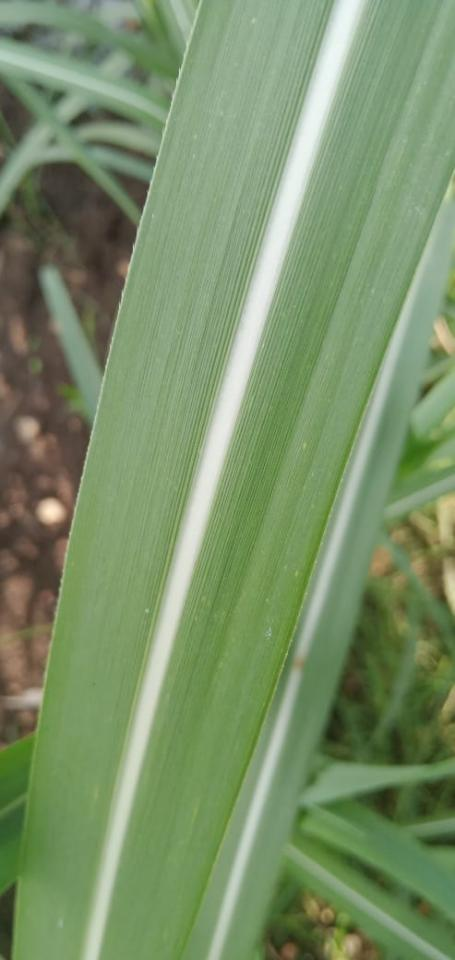Healthy: (14, 0, 454, 959), (183, 203, 454, 959)
